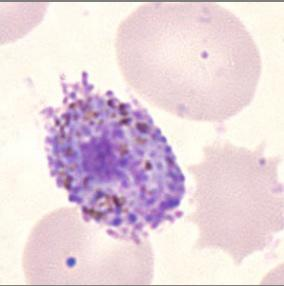Infected: (44, 71, 185, 242)
Uninfected: (116, 1, 262, 122), (183, 137, 284, 261)
